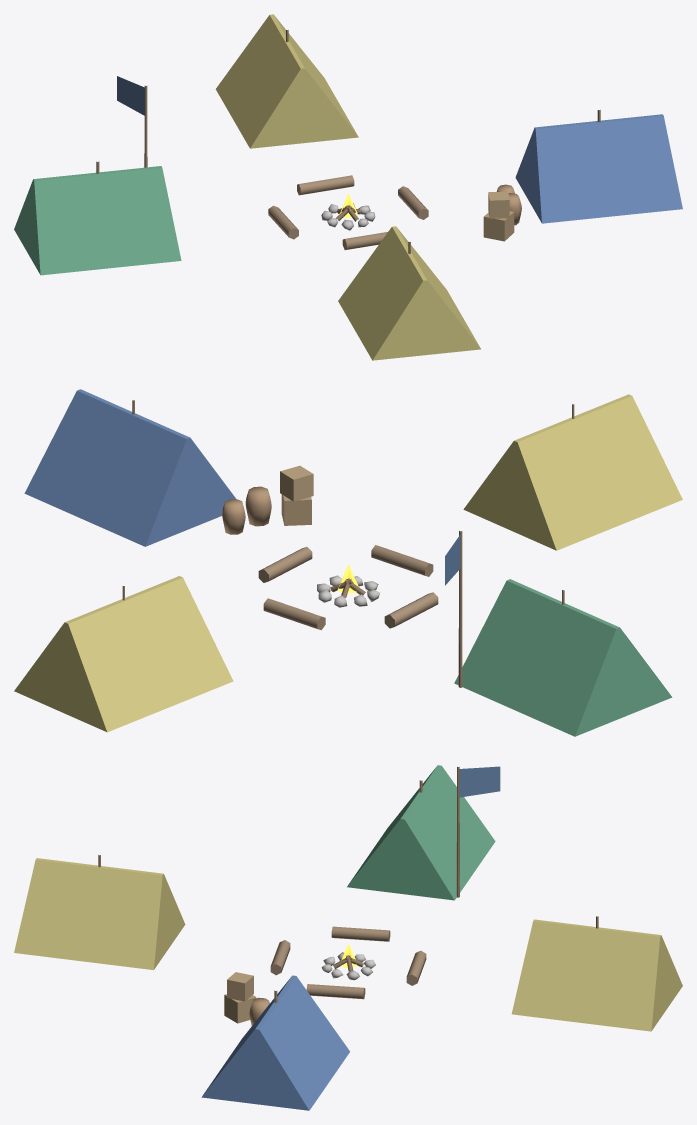
Rendered from struct_7_12.glb.
3 renders of one model, top to bottom at view 1: azimuth 30°, elevation 25°; view 2: azimuth 150°, elevation 25°; view 3: azimuth 270°, elevation 25°, orthographic. The views are drawn at different scales.
Visible parts, largest first — view 1: Landmarks; view 2: Landmarks; view 3: Landmarks.
Boxes of the visible parts, x1=… form: Landmarks: x1=14, y1=14, x2=682, y2=360; Landmarks: x1=14, y1=389, x2=682, y2=736; Landmarks: x1=14, y1=765, x2=682, y2=1110.
Size of the model in its own units: 23.23 by 5.05 by 23.23.
